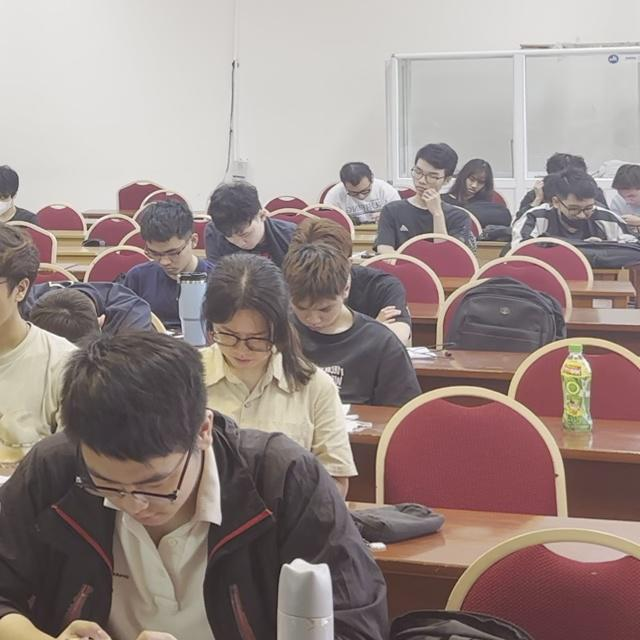Looking away: (68, 346, 234, 531), (282, 233, 363, 342), (208, 277, 272, 410), (393, 133, 472, 219), (144, 204, 210, 299), (211, 186, 273, 257), (544, 173, 609, 239), (1, 228, 33, 342), (0, 150, 36, 241), (537, 130, 587, 195), (457, 151, 504, 206), (339, 155, 376, 200)
Phone use: (318, 156, 390, 236), (611, 155, 640, 255)
